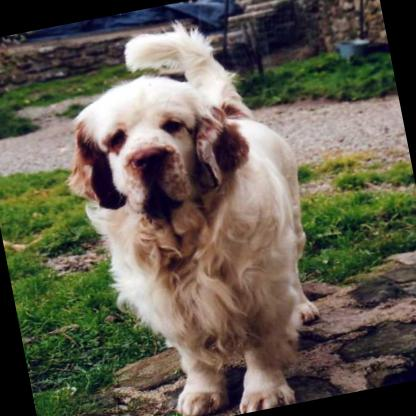clumber: (35, 2, 335, 416)
